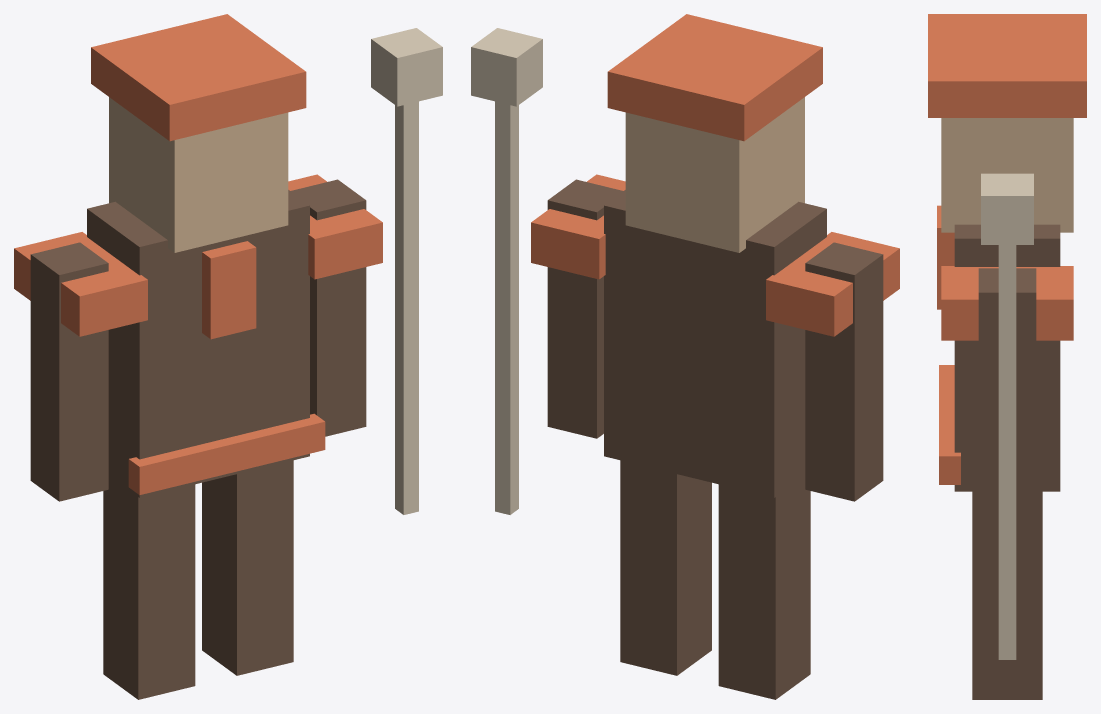
Rendered from 15_vela_echohand_herald_of_supply.glb.
The picture shows the model from 3 angles, left to right: view 1: azimuth 30°, elevation 25°; view 2: azimuth 150°, elevation 25°; view 3: azimuth 270°, elevation 25°; orthographic projection.
Visible parts, largest first — view 1: Vela Echohand, Herald of Supply; view 2: Vela Echohand, Herald of Supply; view 3: Vela Echohand, Herald of Supply.
Part boxes in pixels (left/top/right/bottom): Vela Echohand, Herald of Supply: left=14, top=14, right=442, bottom=699; Vela Echohand, Herald of Supply: left=471, top=14, right=899, bottom=699; Vela Echohand, Herald of Supply: left=928, top=14, right=1086, bottom=699.
Bounding box in the file's own units: 1.03 × 1.56 × 0.3655.
